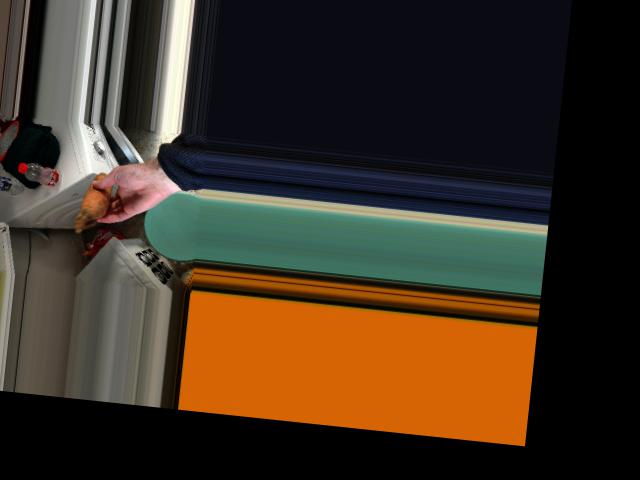sweet_potato: (80, 177, 111, 219)
